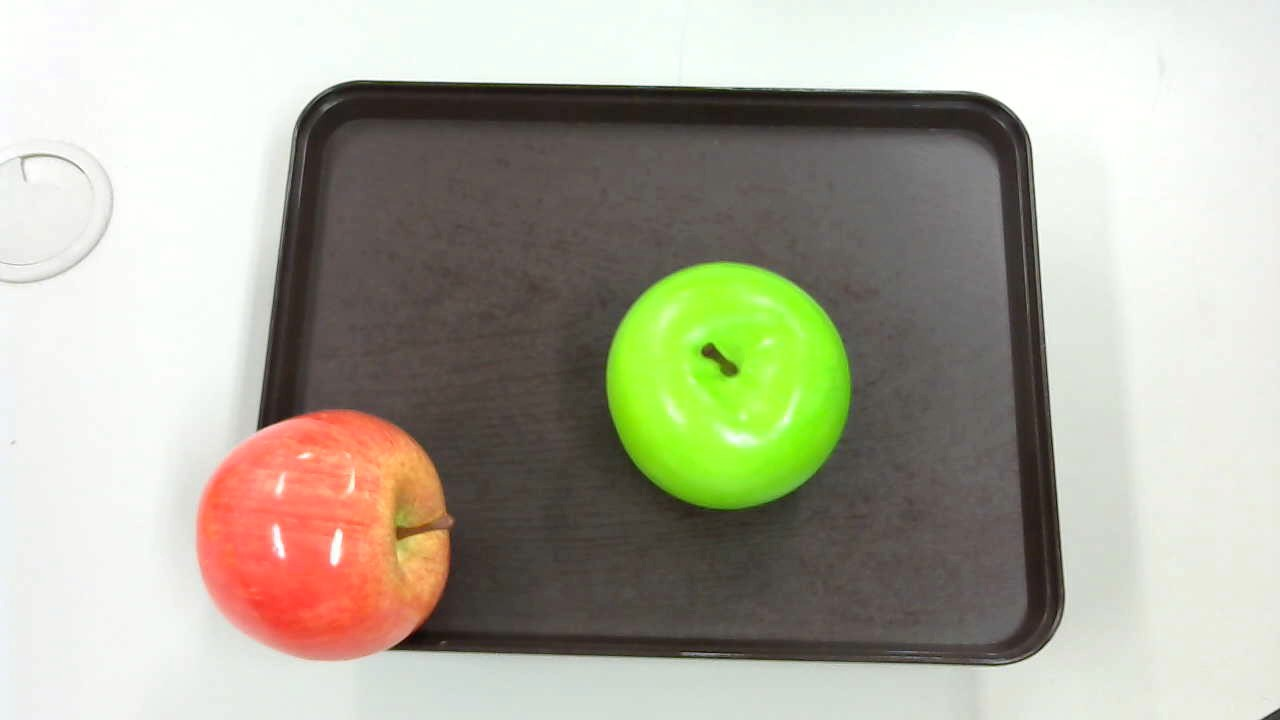green apple: (598, 263, 856, 509)
red apple: (198, 405, 452, 661)
